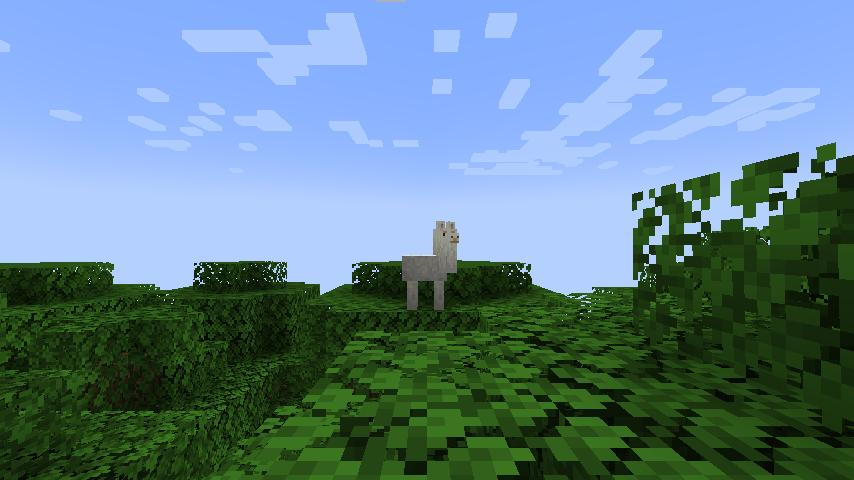llama: (400, 218, 463, 313)
